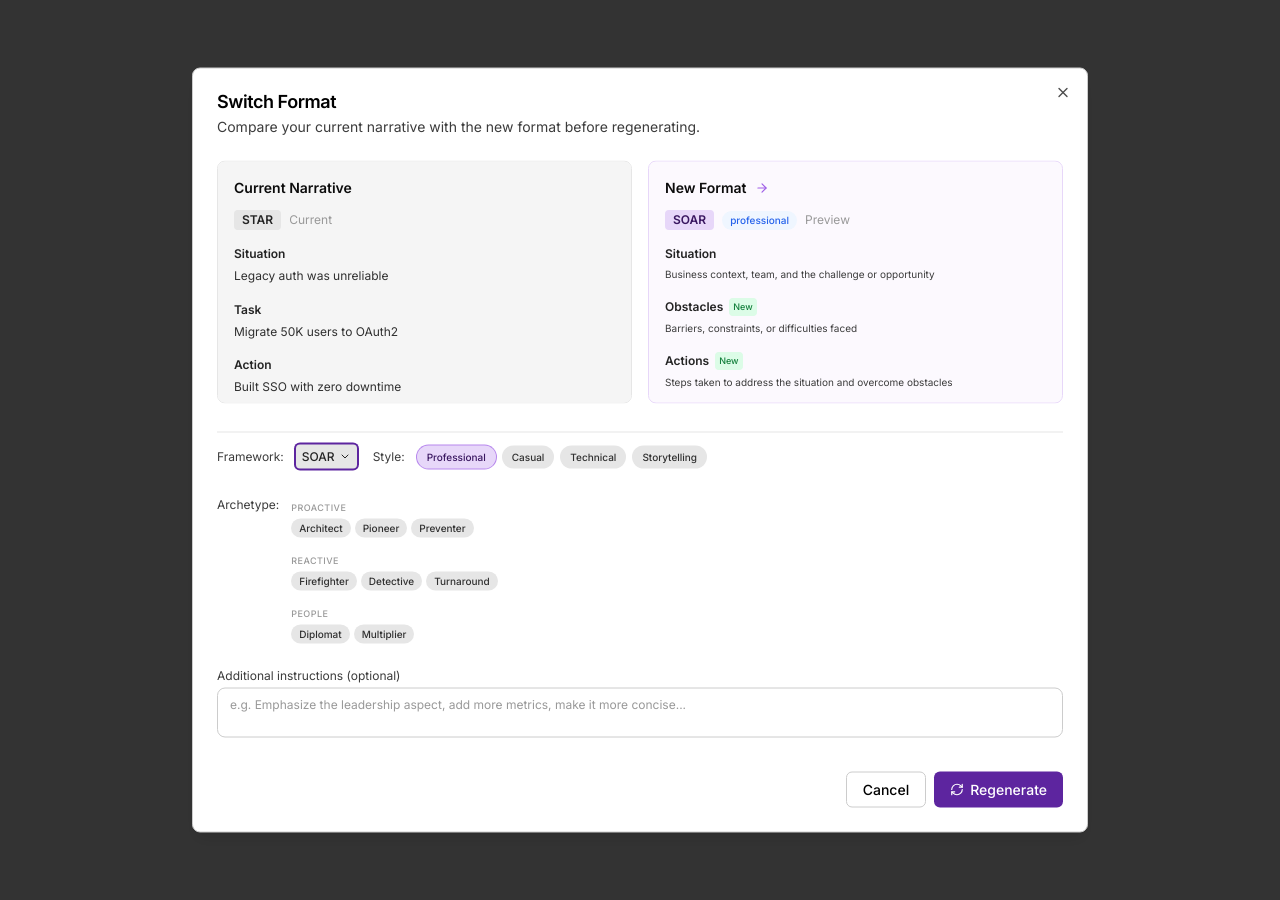
Scenario: FormatSwitchModal › Error handling › shows error message when regeneration fails
Click the button "Regenerate" at (999, 790), box [934,772,1063,808]
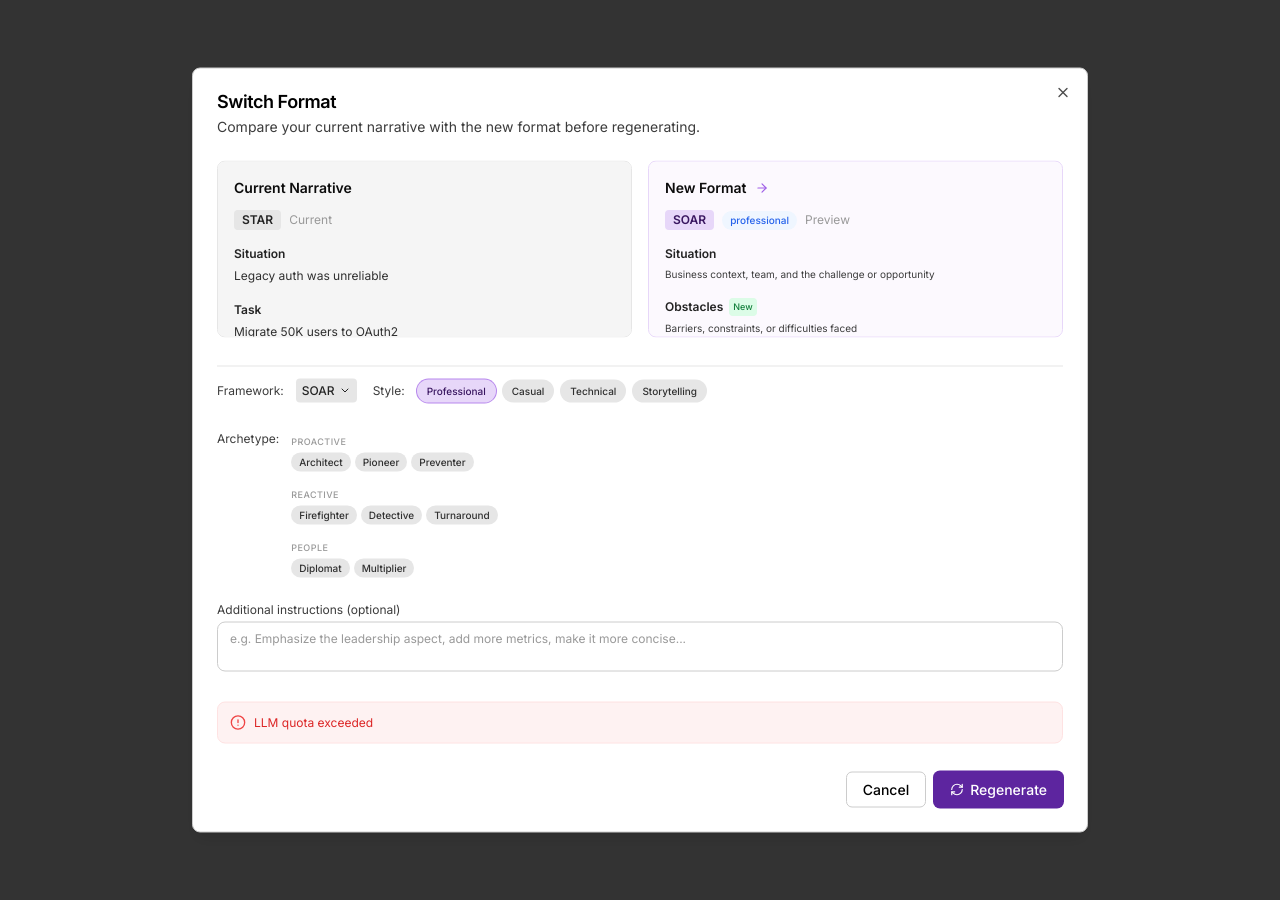
Expected: the text "LLM quota exceeded" is shown, [254,714,373,730]
